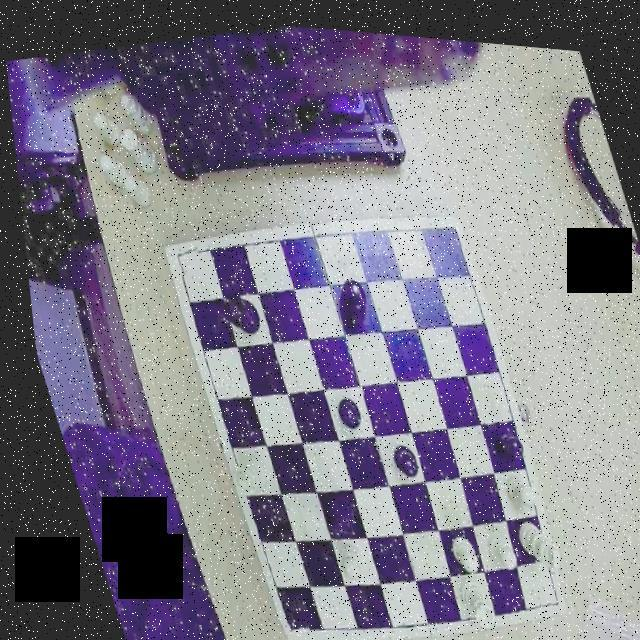chess-table-corners: (159, 236, 201, 278), (261, 599, 300, 639), (424, 208, 464, 246), (524, 574, 556, 608)
